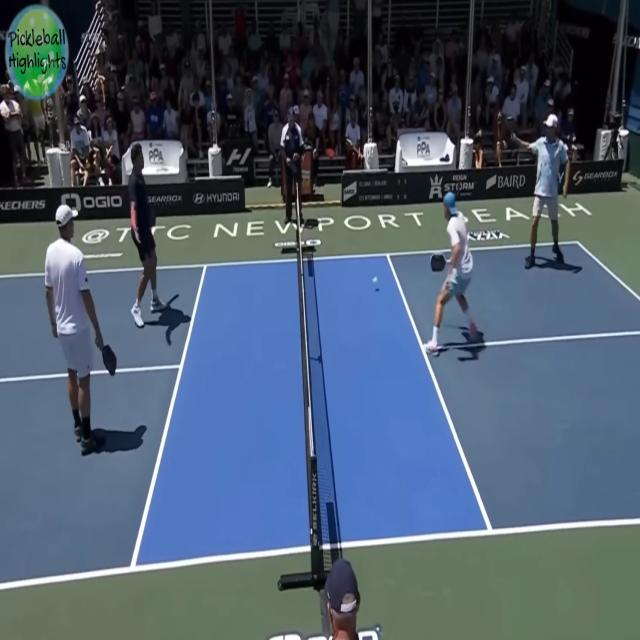ball: (372, 274, 378, 284)
